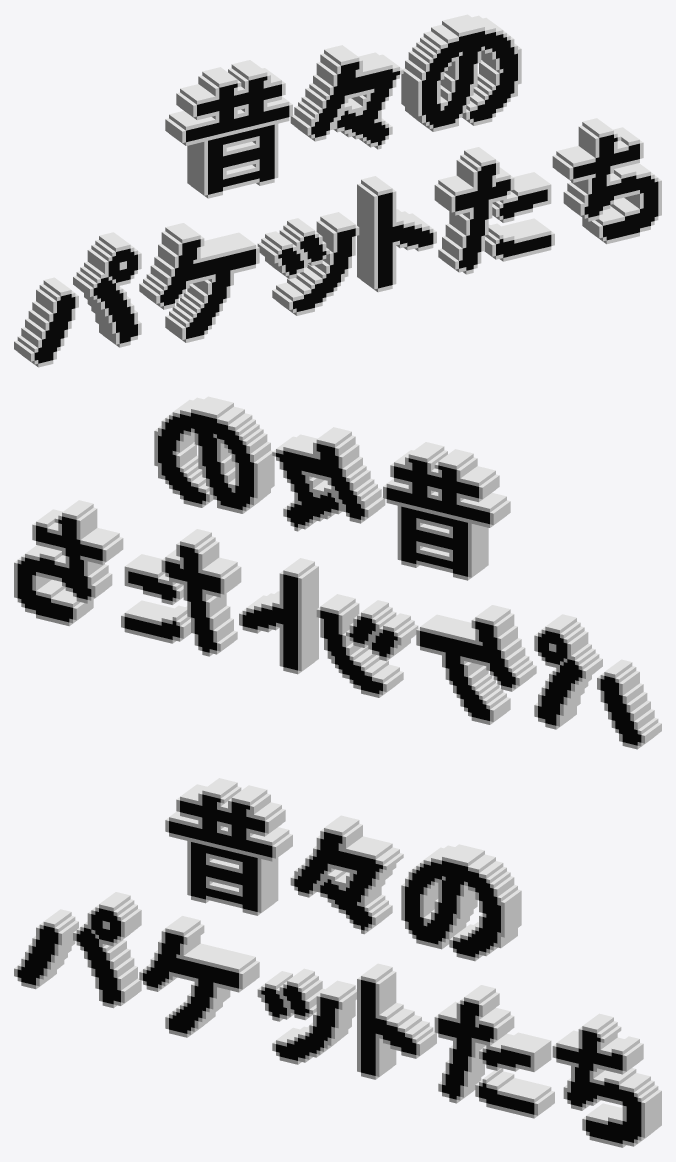
File: GameTitle-v2.obj
The picture shows the model from 3 angles, top to bottom: view 1: azimuth 30°, elevation 25°; view 2: azimuth 150°, elevation 25°; view 3: azimuth 330°, elevation 25°; orthographic projection.
Size of the model in its own units: 17.1 by 6.6 by 0.8.
Materials: 1 (1 with a texture image).
